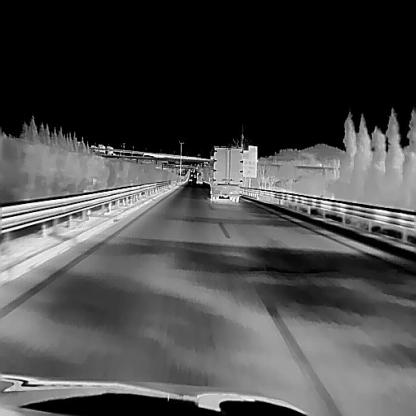truck: (208, 145, 243, 202), (196, 170, 203, 183)
